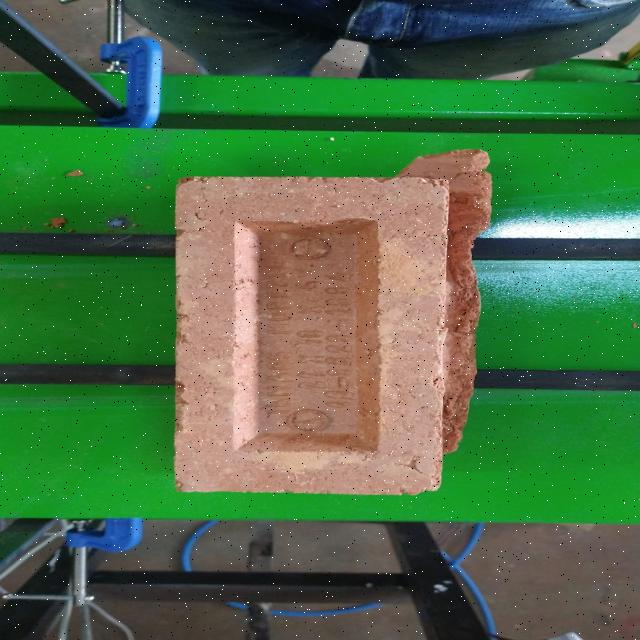bricks_ruin: (173, 147, 493, 494)
